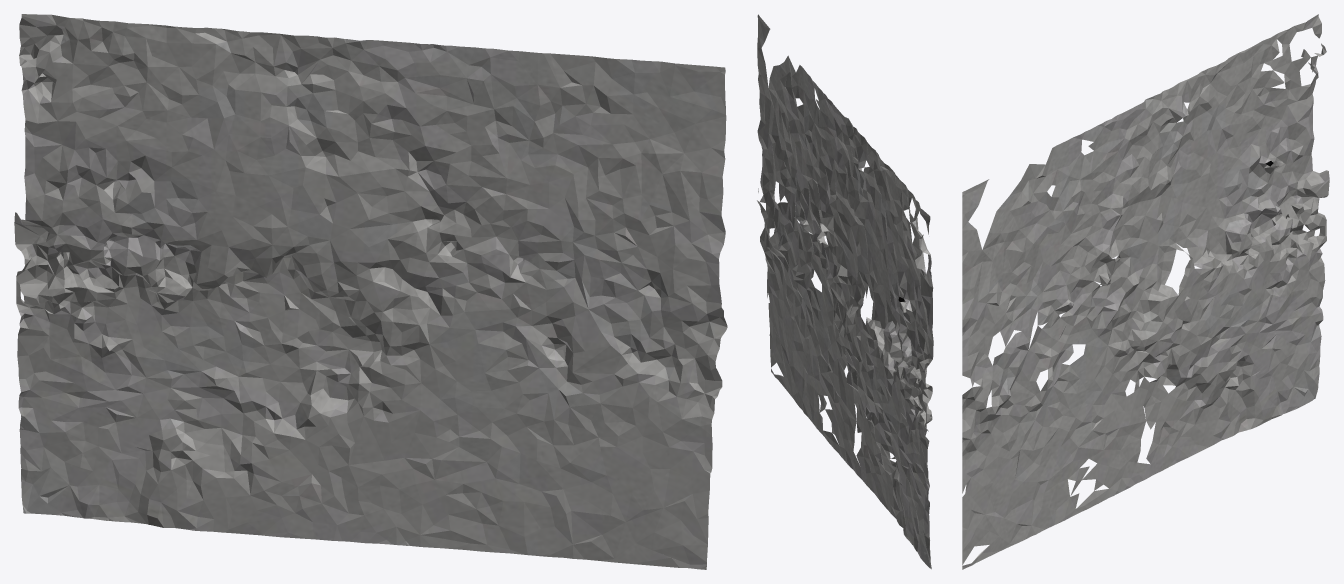
3 renders of one model, left to right at view 1: azimuth 30°, elevation 25°; view 2: azimuth 150°, elevation 25°; view 3: azimuth 270°, elevation 25°, orthographic. The views are drawn at different scales.
Bounding box in the file's own units: 0.8364 × 0.8374 × 0.7253.
Materials: 4 (4 with a texture image).
